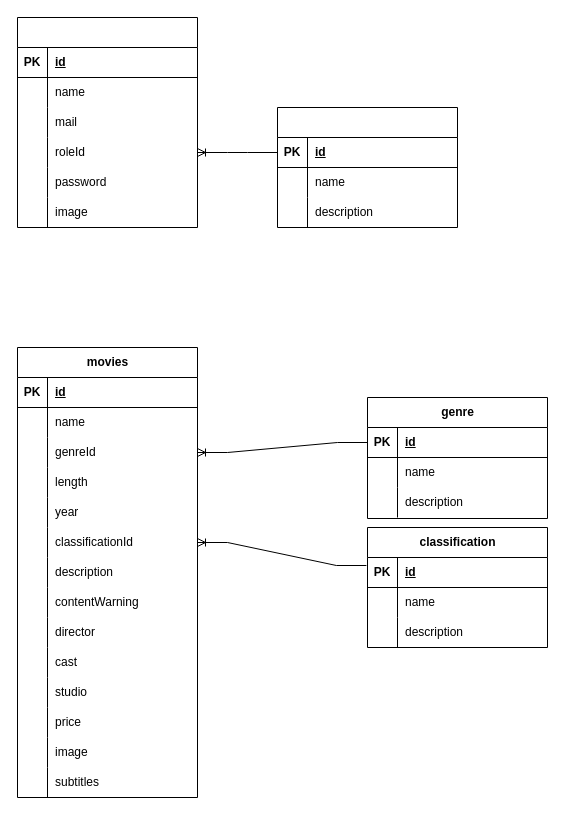
Image size: 565x815. Some labels were removed from this diagram. The box of each missing label's shape, as (x1, y1, x2, y2) in pixels:
roles: (276, 106, 458, 228)
users: (16, 16, 198, 228)
